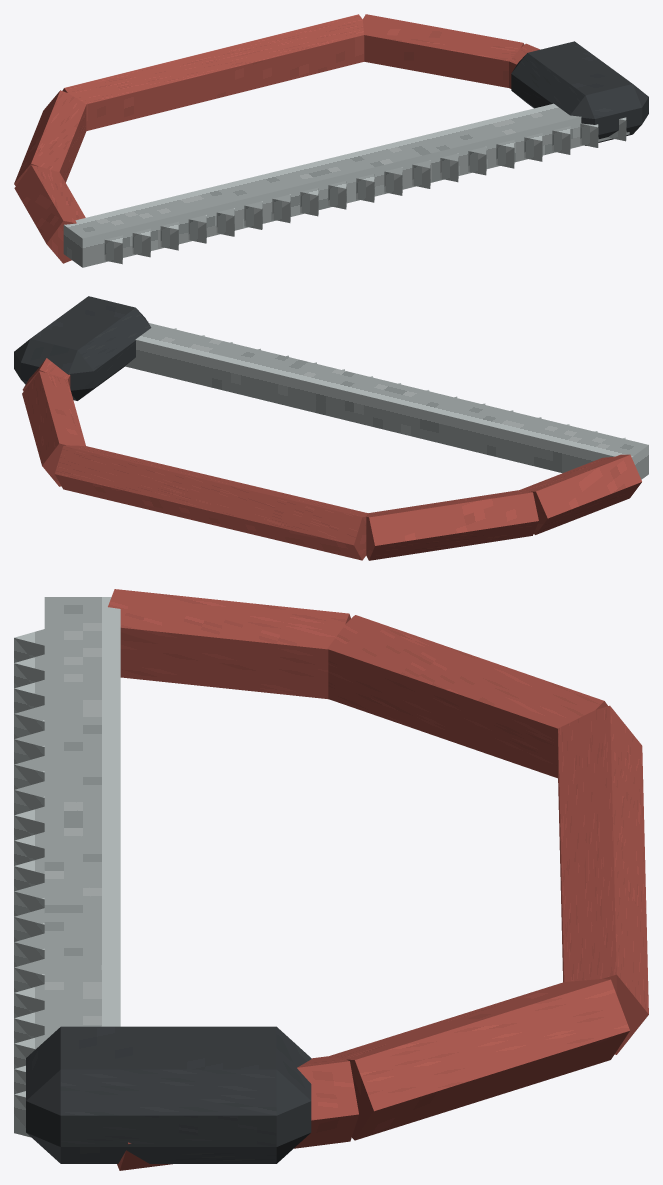
Rendered from bow_saw.glb.
3 renders of one model, top to bottom at view 1: azimuth 30°, elevation 25°; view 2: azimuth 150°, elevation 25°; view 3: azimuth 270°, elevation 25°, orthographic. The views are drawn at different scales.
Parts seen in each view (by area): view 1: block_tensioned blade, block_bow frame 2, block_saw tooth (×18), block_end grip, block_bow frame 3, block_bow frame 1, block_bow frame 0; view 2: block_tensioned blade, block_bow frame 2, block_bow frame 1, block_end grip, block_bow frame 0, block_bow frame 3, block_bow frame 4; view 3: block_end grip, block_tensioned blade, block_bow frame 3, block_bow frame 2, block_bow frame 1, block_bow frame 0, block_bow frame 4, block_saw tooth (×3).
Part boxes in pixels (bbox=[...]): block_tensioned blade: bbox=[63, 103, 629, 267]; block_bow frame 2: bbox=[62, 14, 364, 130]; block_saw tooth (×18): bbox=[104, 123, 598, 264]; block_end grip: bbox=[511, 41, 648, 145]; block_bow frame 3: bbox=[362, 14, 524, 87]; block_bow frame 1: bbox=[14, 90, 86, 185]; block_bow frame 0: bbox=[14, 165, 85, 263]; block_tensioned blade: bbox=[125, 323, 648, 479]; block_bow frame 2: bbox=[55, 445, 367, 560]; block_bow frame 1: bbox=[366, 490, 538, 560]; block_end grip: bbox=[14, 296, 151, 400]; block_bow frame 0: bbox=[520, 454, 641, 534]; block_bow frame 3: bbox=[22, 371, 85, 486]; block_bow frame 4: bbox=[22, 358, 72, 397]; block_end grip: bbox=[26, 1026, 311, 1163]; block_tensioned blade: bbox=[44, 597, 120, 1040]; block_bow frame 3: bbox=[329, 979, 629, 1140]; block_bow frame 2: bbox=[558, 705, 648, 1054]; block_bow frame 1: bbox=[327, 615, 607, 778]; block_bow frame 0: bbox=[108, 589, 350, 699]; block_bow frame 4: bbox=[117, 1056, 358, 1170]; block_saw tooth (×3): bbox=[14, 730, 44, 1018].
Size of the model in its own units: 0.88 by 0.0796 by 0.4445.
Materials: 1 (1 with a texture image).
